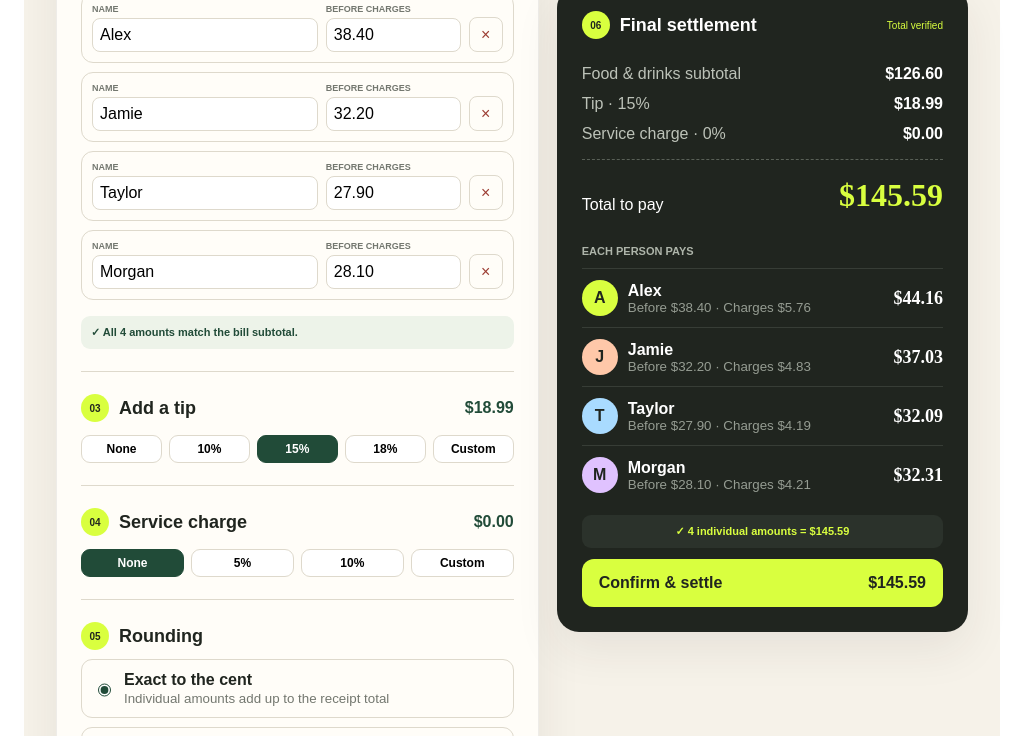
Test: blocks duplicate saves and ignores a late success for an edited bill
(page scrolled)
Click the button "Confirm & settle $145.59".
click(661, 582)  # box [582,559,943,607]
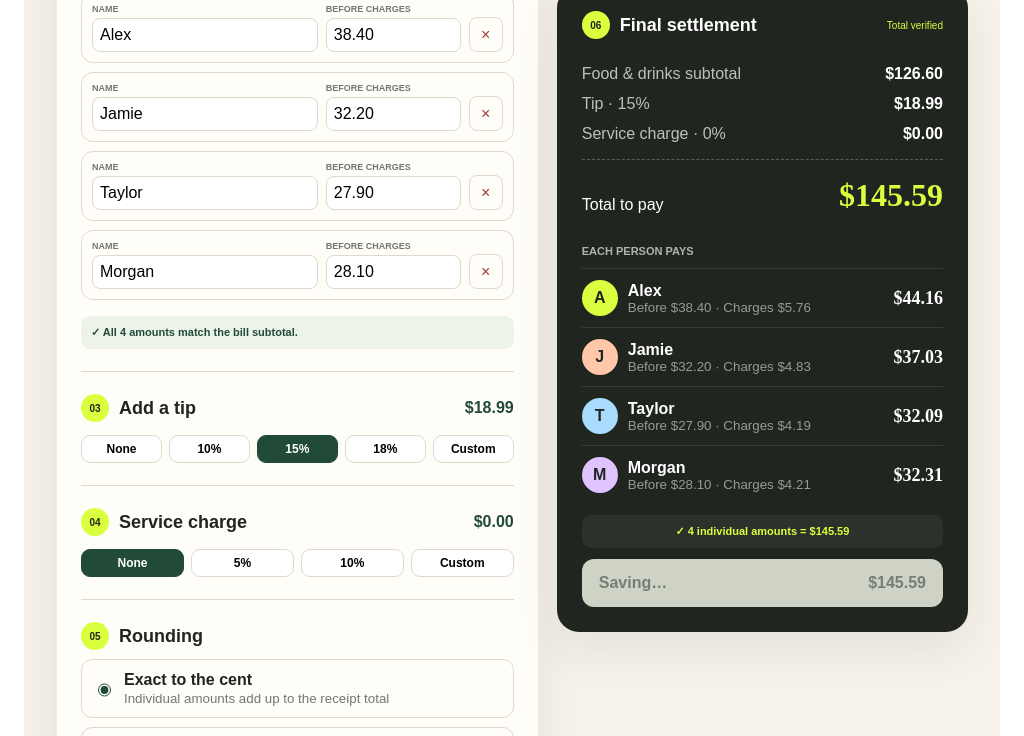
Check: the button "Saving… $145.59" is disabled
Click the button "Saving… $145.59".
click(633, 582)  # box [582,559,943,607]
(page scrolled)
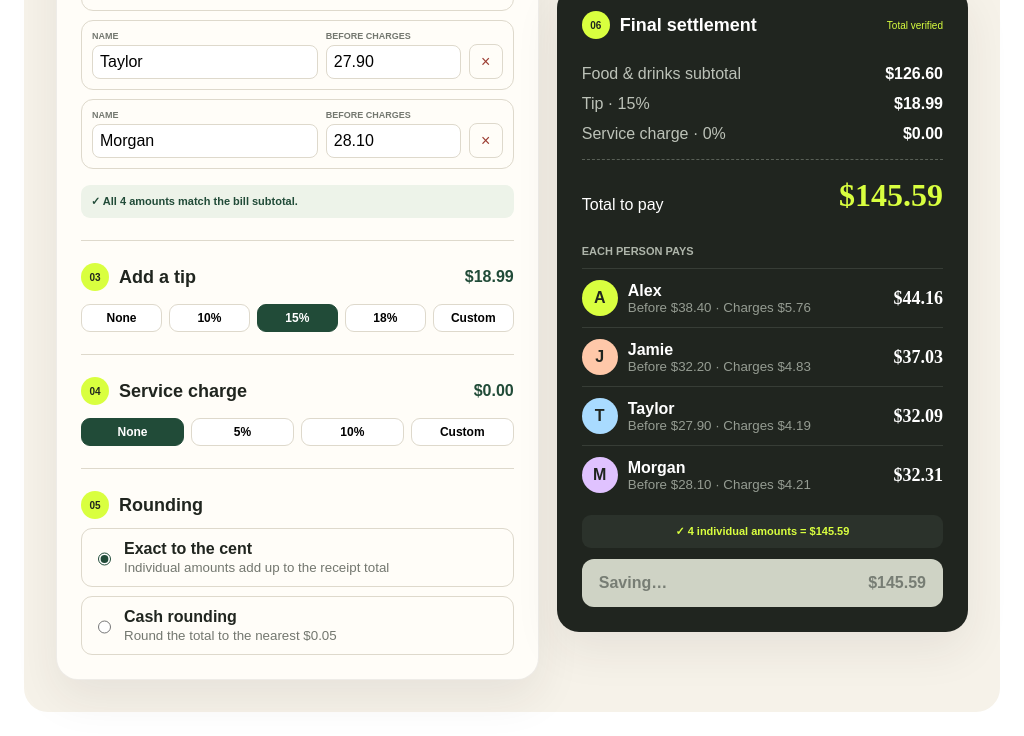
Click the radio button labelled "Cash rounding Round the total to the nearest $0.05".
click(104, 627)  # box [98,611,111,643]
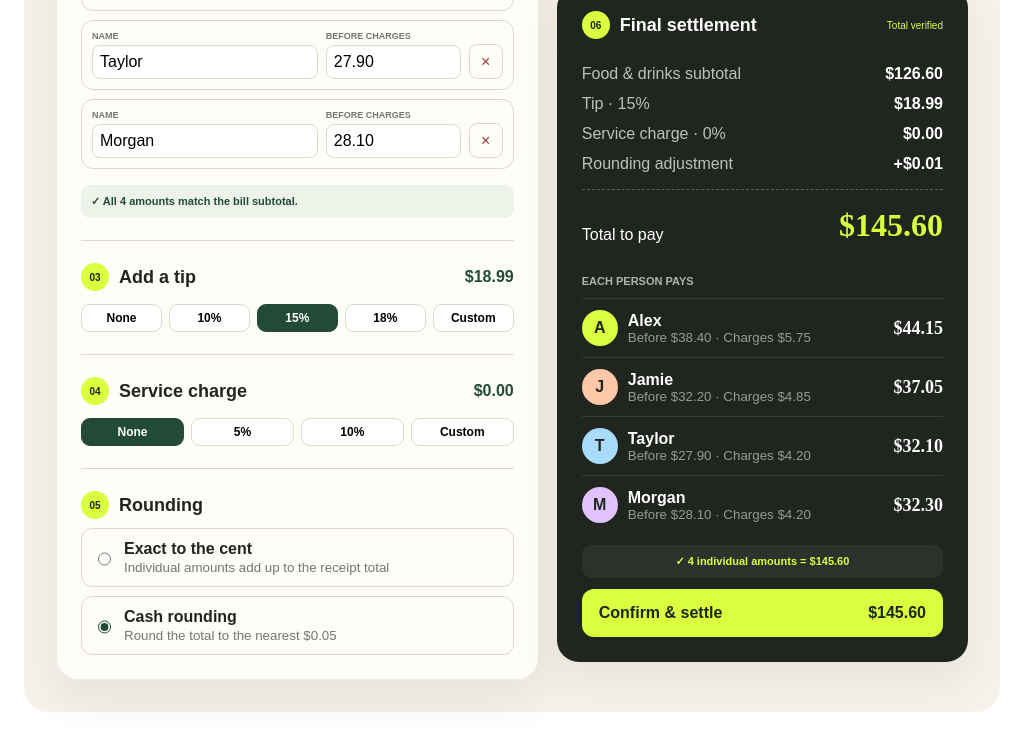
Check: the button "Confirm & settle $145.60" is enabled, box [582,589,943,637]
